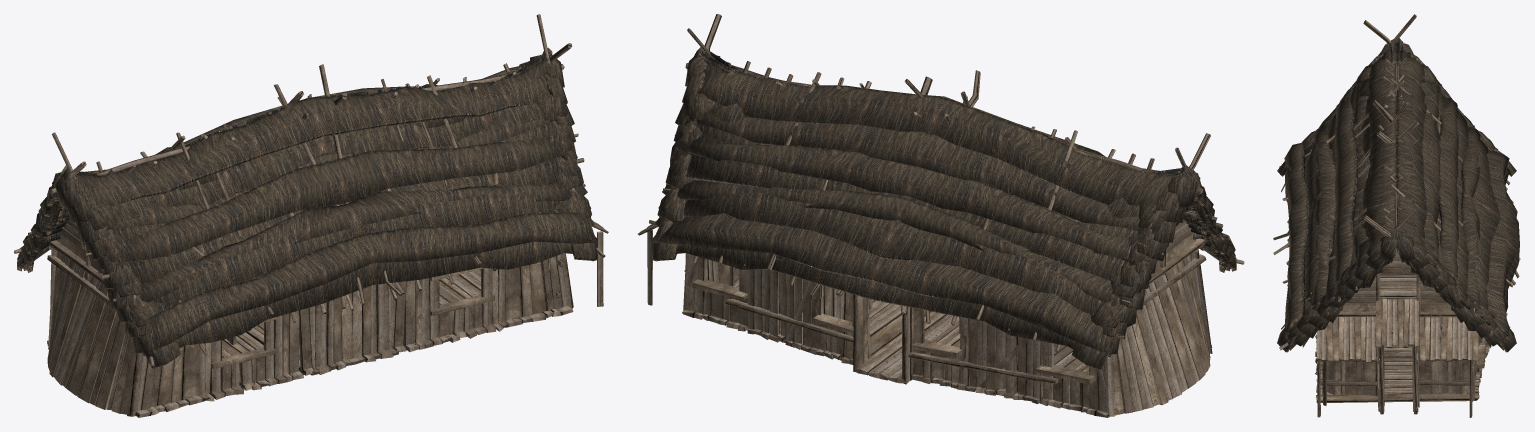
Rendered from LongThatch.fbx.
3 views of the same model, side by side, from view 1: azimuth 30°, elevation 25°; view 2: azimuth 150°, elevation 25°; view 3: azimuth 270°, elevation 25° (orthographic). The views are drawn at different scales.
Visible parts, largest first — view 1: LongThatch; view 2: LongThatch; view 3: LongThatch.
Boxes of the visible parts, box(x1,y1,x2,y2) form: LongThatch: box(14, 14, 608, 417); LongThatch: box(638, 14, 1244, 417); LongThatch: box(1273, 14, 1520, 417).
Size of the model in its own units: 1673 by 809 by 850.
